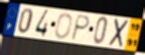0: (93, 16, 110, 46), (16, 8, 34, 36)
4: (34, 8, 50, 39)
O: (54, 13, 74, 40)
P: (70, 14, 91, 41)
X: (108, 18, 130, 49)
